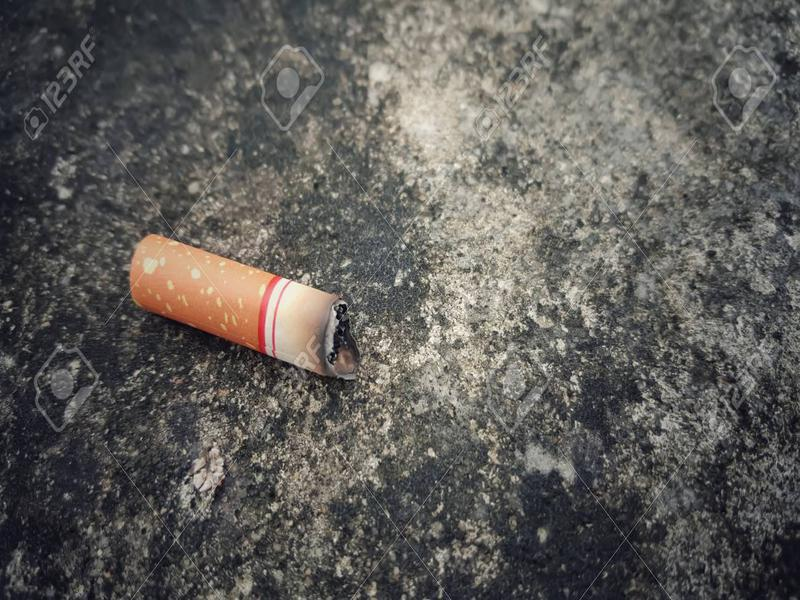burned_cigarette: (128, 230, 365, 382)
